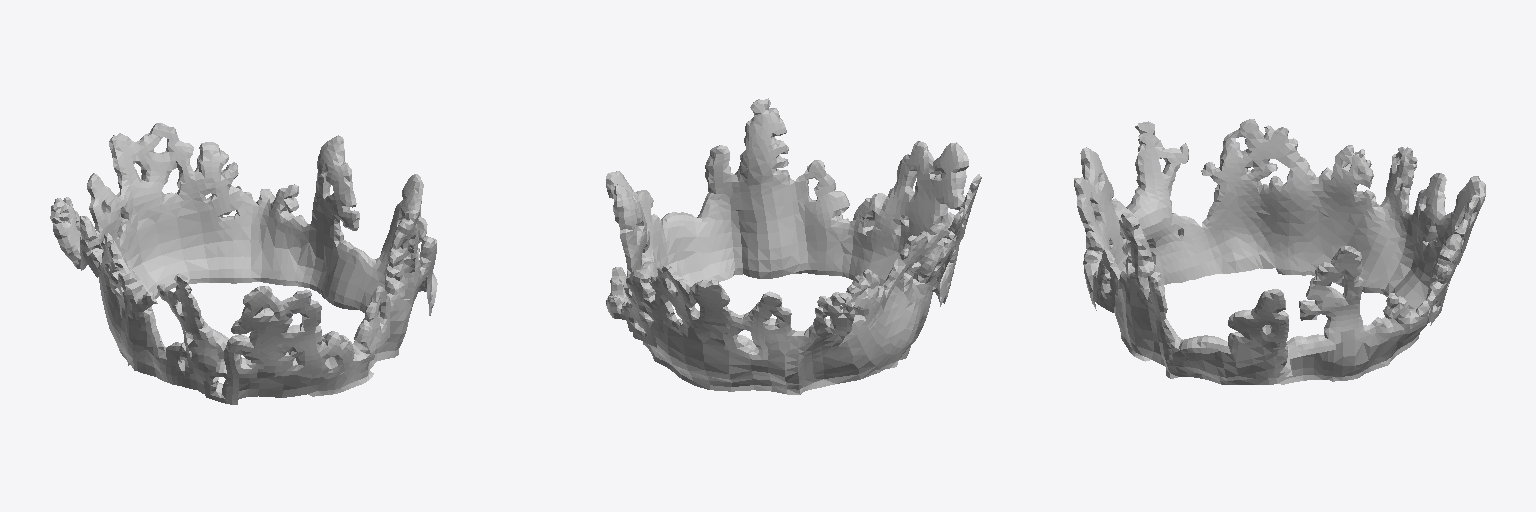
Rendered from ReefEnviroment_V1.obj.
3 renders of one model, left to right at view 1: azimuth 30°, elevation 25°; view 2: azimuth 150°, elevation 25°; view 3: azimuth 270°, elevation 25°, orthographic.
Parts seen in each view (by area): view 1: Walls; view 2: Walls; view 3: Walls.
Part boxes in pixels (x1,y1,x2,y2): Walls: (50,123,437,404); Walls: (606,98,981,394); Walls: (1074,119,1485,384).
Bounding box in the file's own units: 1510 × 720 × 1663.